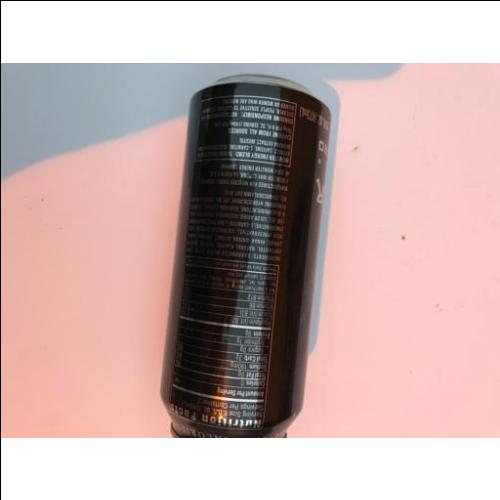metal: (162, 77, 334, 440)
